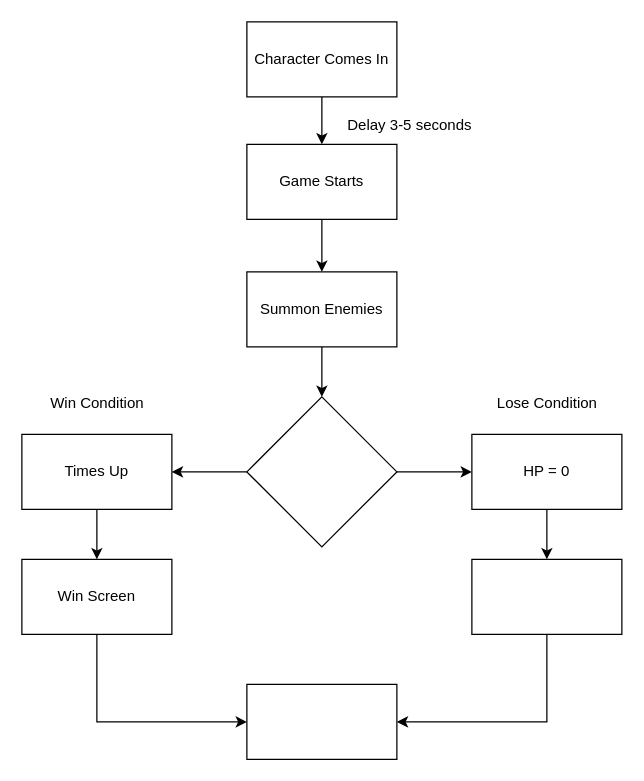
Image size: 644x781. Some labels were removed from this diagram. The shapes that lost their labels are listed below. From the top down, each one's box as (x1, y1, x2, y2) in pixels, then its label:
(246, 396, 397, 547): GamePlay
(471, 558, 622, 634): Lose Screen
(246, 683, 397, 759): Thank You Screen
